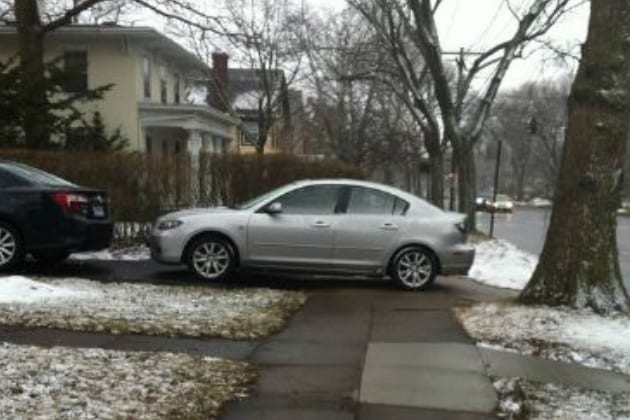Car: (147, 168, 481, 295), (3, 155, 115, 274)
